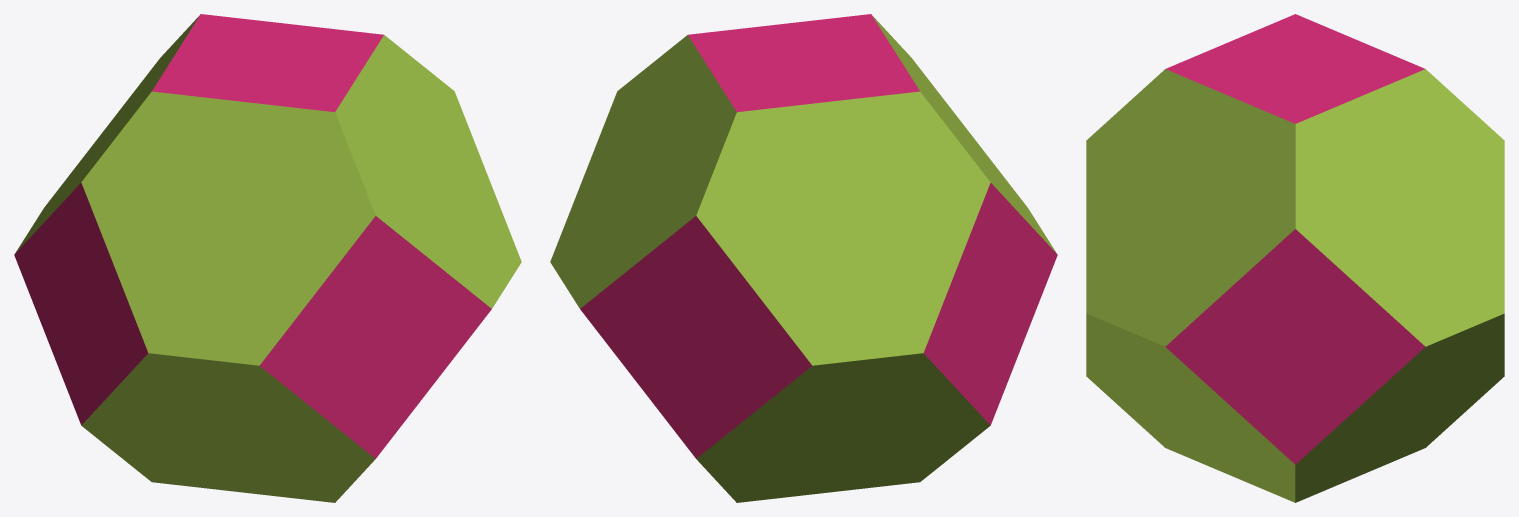
The model's file is t-octahedron.fbx.
3 renders of one model, left to right at view 1: azimuth 30°, elevation 25°; view 2: azimuth 150°, elevation 25°; view 3: azimuth 270°, elevation 25°, orthographic. The views are drawn at different scales.
Parts seen in each view (by area): view 1: polyhedronisme-tO; view 2: polyhedronisme-tO; view 3: polyhedronisme-tO.
Part boxes in pixels (bbox=[...]): polyhedronisme-tO: bbox=[14, 14, 521, 502]; polyhedronisme-tO: bbox=[550, 14, 1057, 502]; polyhedronisme-tO: bbox=[1086, 14, 1504, 502].
Bounding box in the file's own units: 170 × 170 × 170.
